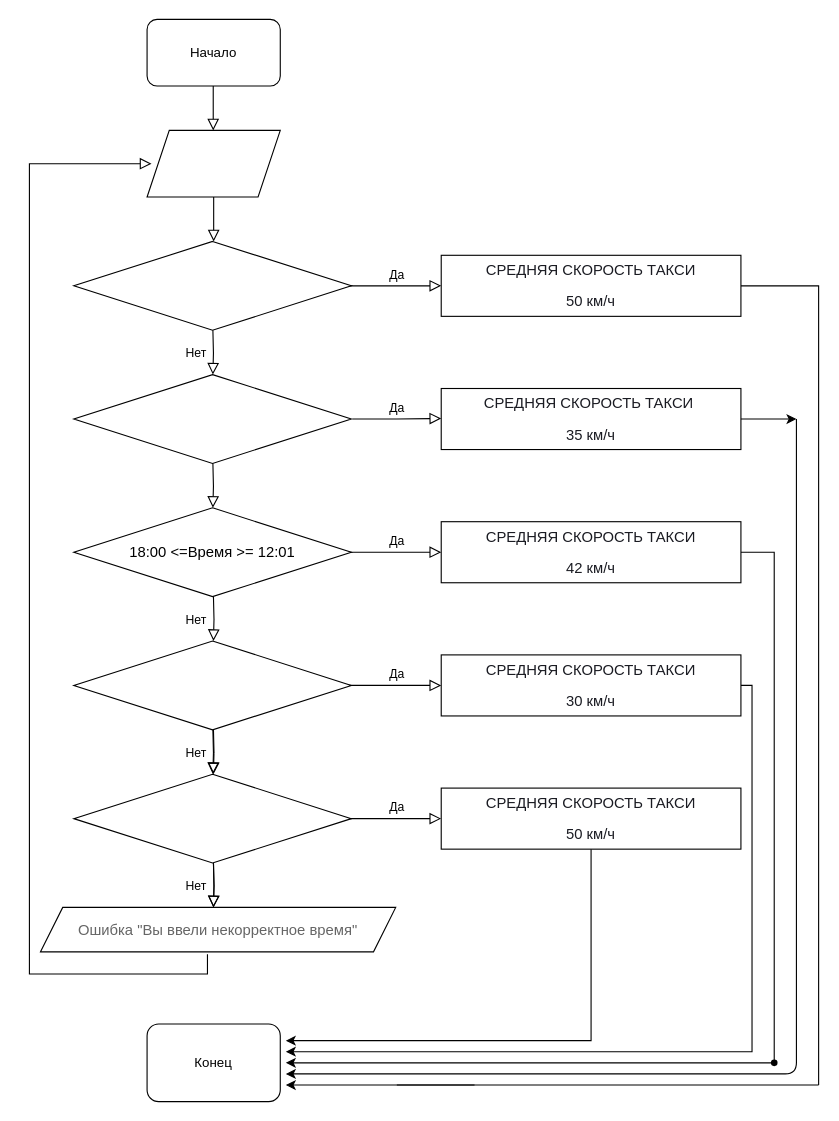
Some shapes in this 839 by 1121 pixel diagram are drawn without their labels. Each missing label, with the box of its shape:
00:00 <=Время >= 22 :01: (73, 773, 351, 863)
08:00 <=Время >= 00:01: (73, 240, 351, 330)
12:00 <=Время >= 08:01: (73, 374, 351, 463)
22:00 <=Время >= 18:01: (73, 640, 351, 730)
Ввод времени: (146, 129, 280, 197)
